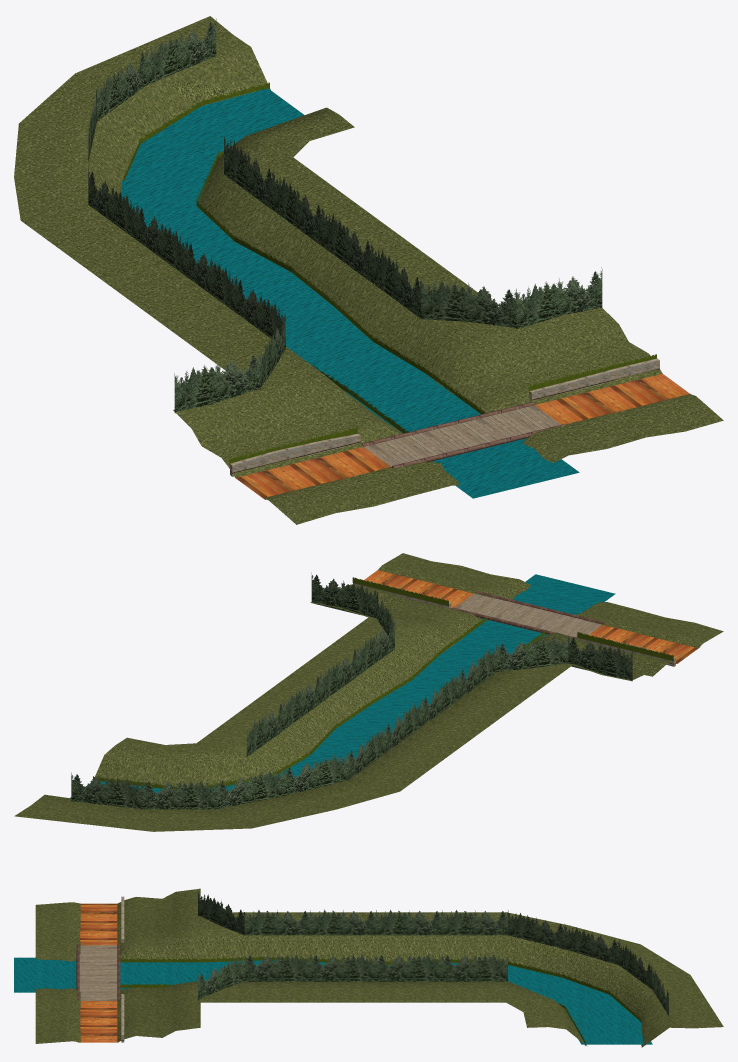
Rendered from terr_ponyville_river.FBX.
The picture shows the model from 3 angles, top to bottom: view 1: azimuth 30°, elevation 25°; view 2: azimuth 150°, elevation 25°; view 3: azimuth 270°, elevation 25°; orthographic projection. The views are drawn at different scales.
Visible parts, largest first — view 1: grass01, water, grass, road, road01, forBorder02, Box01, forBorder05, forBorder03, forBorder17, waterGrass01, forBorder13 (+11 smaller); view 2: grass01, water, grass, road, road01, forBorder16, forBorder04, forBorder17, forBorder03, forBorder05, forBorder15, forBorder14 (+10 smaller); view 3: grass01, water, grass, road, road01, forBorder06, forBorder12, forBorder07, forBorder13, forBorder10, forBorder08, forBorder09 (+9 smaller).
Part boxes in pixels (x1,y1,x2,y2): grass01: (14, 16, 662, 477); water: (121, 88, 579, 498); grass: (263, 394, 723, 524); road: (235, 373, 689, 499); road01: (364, 405, 560, 466); forBorder02: (421, 279, 516, 328); Box01: (230, 358, 659, 476); forBorder05: (174, 351, 260, 413); forBorder03: (516, 267, 602, 328); forBorder17: (146, 18, 216, 85); waterGrass01: (196, 145, 487, 414); forBorder13: (224, 137, 273, 210); grass01: (14, 584, 672, 831); water: (70, 574, 615, 798); grass: (378, 553, 723, 648); road: (364, 570, 698, 663); road01: (455, 593, 601, 637); forBorder16: (143, 780, 216, 809); forBorder04: (496, 636, 568, 671); forBorder17: (71, 772, 142, 809); forBorder03: (311, 573, 375, 617); forBorder05: (568, 635, 632, 681); forBorder15: (217, 769, 284, 808); forBorder14: (284, 752, 348, 795); grass01: (117, 888, 723, 1047); water: (14, 957, 652, 1044); grass: (35, 902, 80, 1043); road: (78, 903, 118, 1042); road01: (79, 945, 117, 1000); forBorder06: (244, 953, 310, 981); forBorder12: (376, 954, 442, 981); forBorder07: (310, 954, 376, 981); forBorder13: (442, 954, 507, 981); forBorder10: (376, 909, 442, 935); forBorder08: (244, 910, 310, 935); forBorder09: (310, 909, 376, 935).
Size of the model in its own units: 201 by 33.98 by 431.
